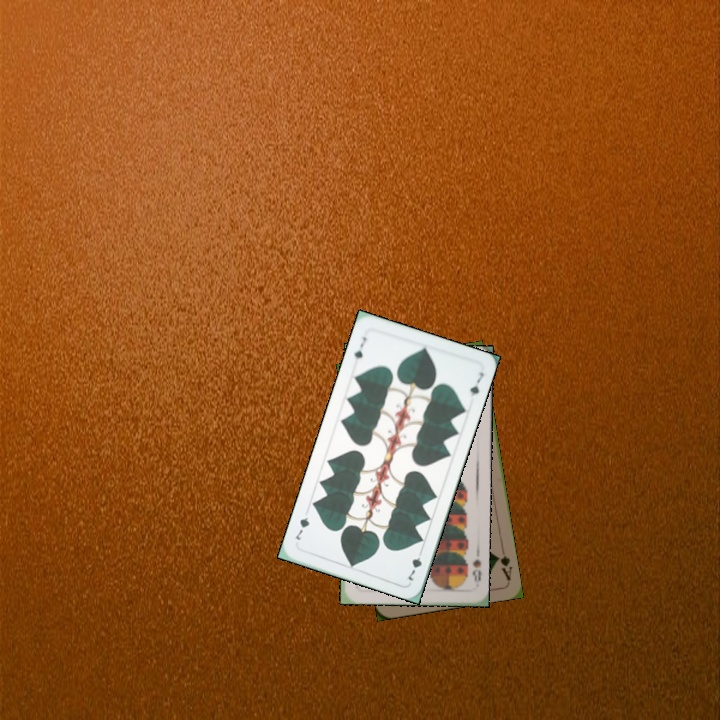G7: (404, 545, 425, 584), (350, 333, 369, 362)
GA: (492, 543, 514, 583)
S8: (469, 555, 483, 586)
